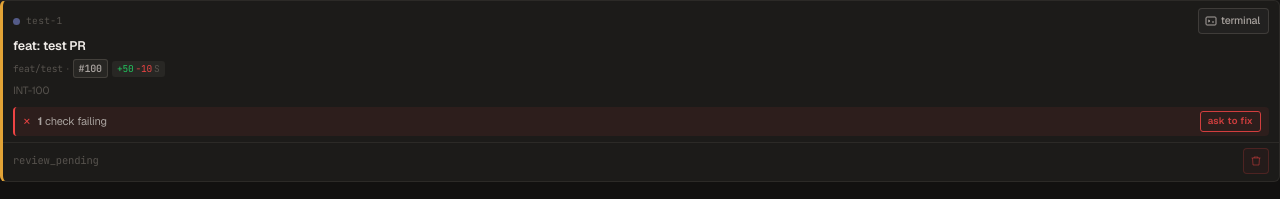
Scenario: SessionCard › shows a temporary failed state when an alert action send is rejected
The width and height of the screenshot is (1280, 199).
Click the button "Ask to fix".
click(1230, 121)  # box [1200,111,1261,132]
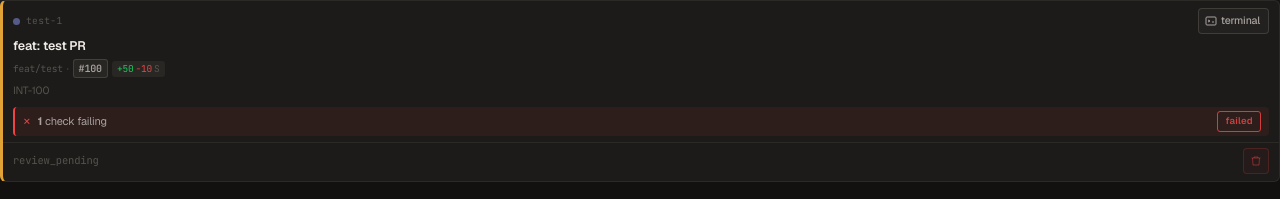
Check: the button "failed" is shown, box [1217,111,1261,132]
